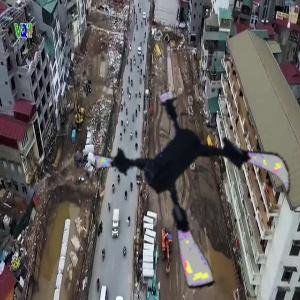drone: (96, 91, 293, 288)
